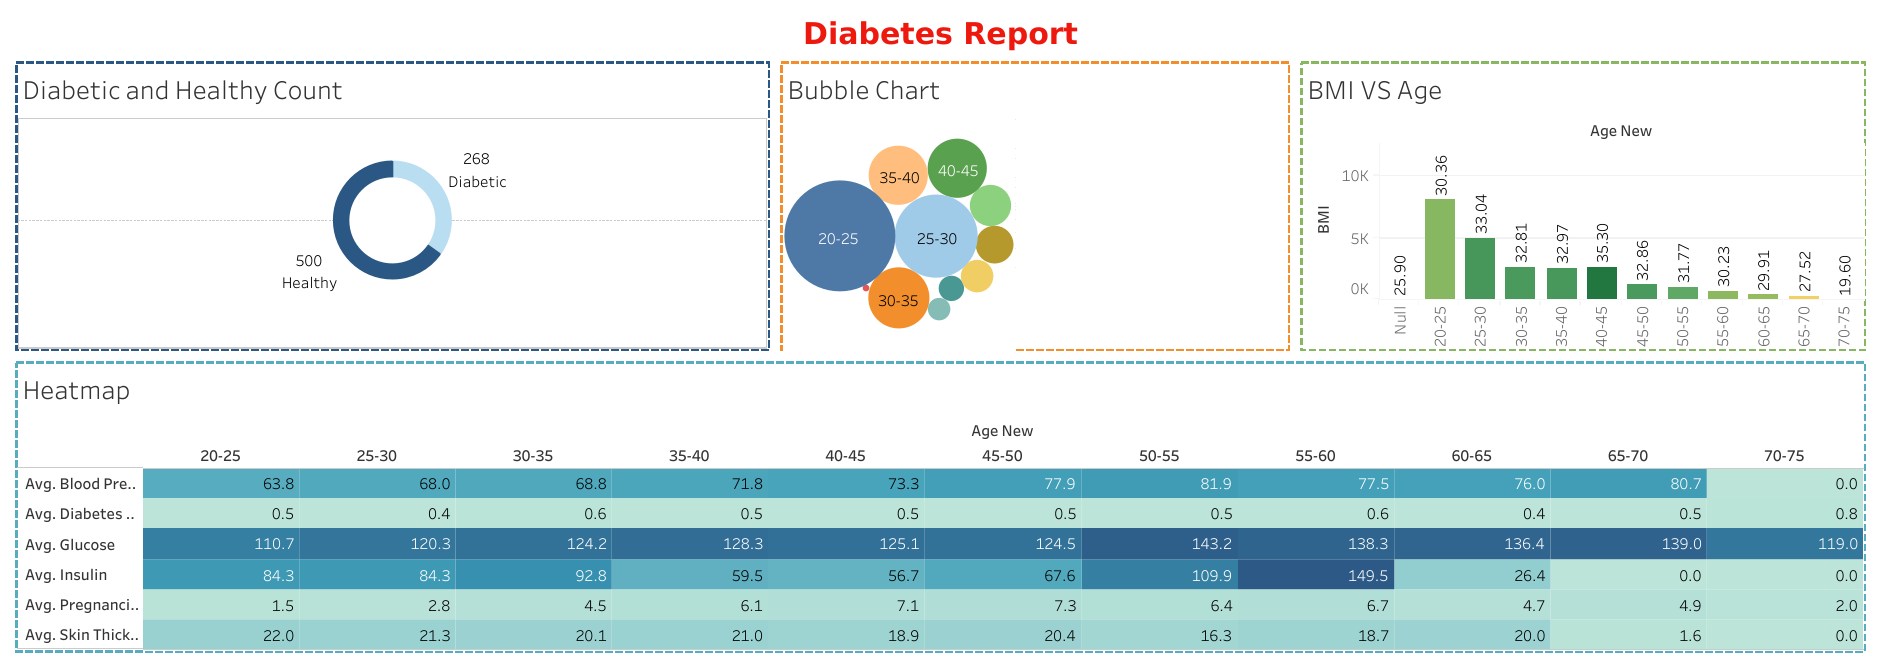

The dashboard page shown, as its layout file describes it:
{"tool":"tableau","page":{"name":"Dashboard 1","canvas":[1000,1000],"units":"permille","ordinal":0},"visuals":[{"type":"title","box":[4.8,9.3,990.3,44.1]},{"type":"worksheet","title":"Pie Chart","mark":"Automatic","rows":["Calculation_1006836023262789632","Calculation_1006836023262789632"],"box":[4.8,53.4,406.8,468.6]},{"type":"worksheet","title":"Bubble Chart","mark":"Circle","box":[411.6,53.4,277,468.6]},{"type":"worksheet","title":"Histogram","mark":"Automatic","rows":["BMI"],"cols":["Calculation_1006836023271342082"],"box":[688.6,53.4,306.6,468.6]},{"type":"worksheet","title":"Heatmap","mark":"Square","cols":["Calculation_1006836023271342082"],"box":[4.8,522,990.3,468.7]}]}

Visuals, with their boxes on the dashboard's canvas, which has no fixed pixel size, in thousandths of its width and height (x1, y1, x2, y2). These are canvas units, not pixel positions in the 1880x666 screenshot, which may show the page scaled, cropped or inside an application window:
title: {"left": 5, "top": 9, "right": 995, "bottom": 53}
"Pie Chart" worksheet: {"left": 5, "top": 53, "right": 412, "bottom": 522}
"Bubble Chart" worksheet (Circle marks): {"left": 412, "top": 53, "right": 689, "bottom": 522}
"Histogram" worksheet: {"left": 689, "top": 53, "right": 995, "bottom": 522}
"Heatmap" worksheet (Square marks): {"left": 5, "top": 522, "right": 995, "bottom": 991}
